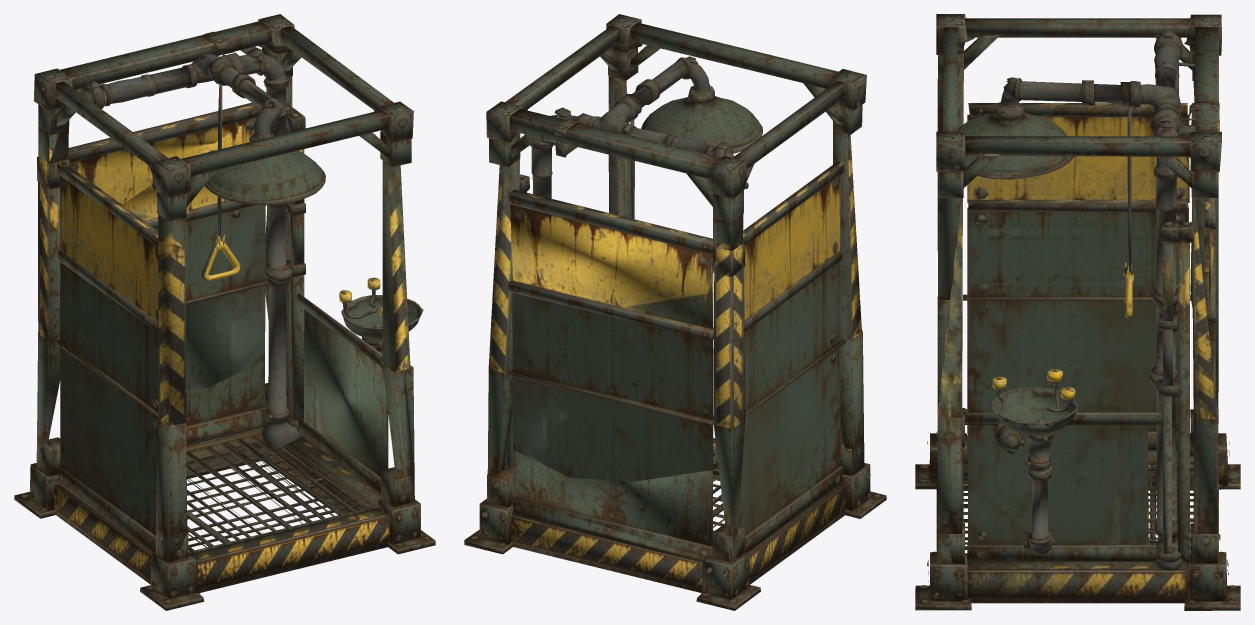
File: reactor-decon-shower.glb
3 views of the same model, side by side, from view 1: azimuth 30°, elevation 25°; view 2: azimuth 150°, elevation 25°; view 3: azimuth 270°, elevation 25° (orthographic). The views are drawn at different scales.
Visible parts, largest first — view 1: reactor-decon-shower; view 2: reactor-decon-shower; view 3: reactor-decon-shower.
Boxes of the visible parts, left/top/right/bottom form: reactor-decon-shower: left=14, top=14, right=435, bottom=610; reactor-decon-shower: left=464, top=14, right=886, bottom=610; reactor-decon-shower: left=915, top=14, right=1240, bottom=610.
Bounding box in the file's own units: 1.76 × 2.4 × 1.5.
Materials: 1 (1 with a texture image).
